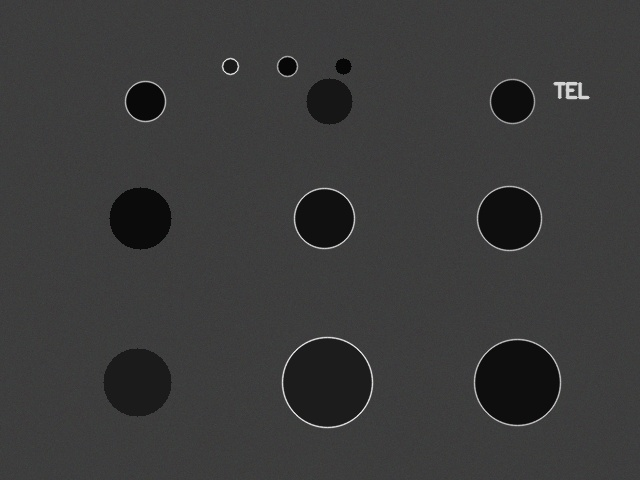hole: (282, 337, 372, 427), (474, 339, 560, 425), (103, 348, 171, 416), (477, 186, 541, 250), (109, 187, 171, 249), (294, 188, 354, 248), (306, 78, 352, 124), (490, 79, 534, 123), (125, 81, 165, 121), (277, 56, 297, 76), (222, 58, 238, 74), (335, 58, 351, 74)
